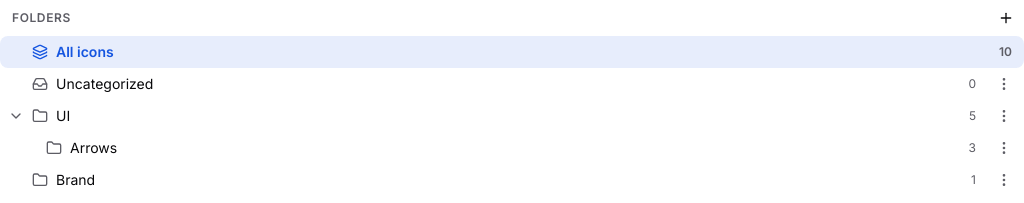
Test: the Uncategorized menu › disables move-to-trash when there is nothing loose
Click the button named "Actions for Uncategorized" at (1004, 84), box top-left (988, 68), bottom-right (1020, 100)
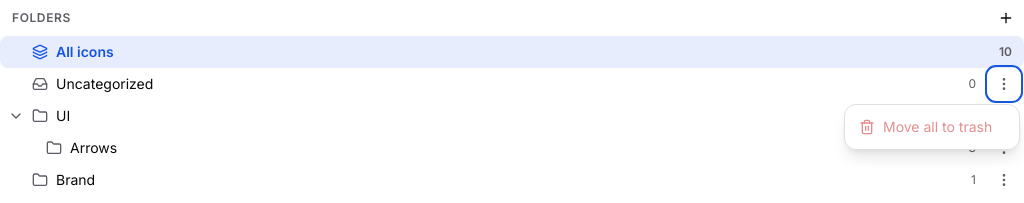
Now the menu item "Move all to trash" is disabled, box top-left (849, 109), bottom-right (1015, 145)
